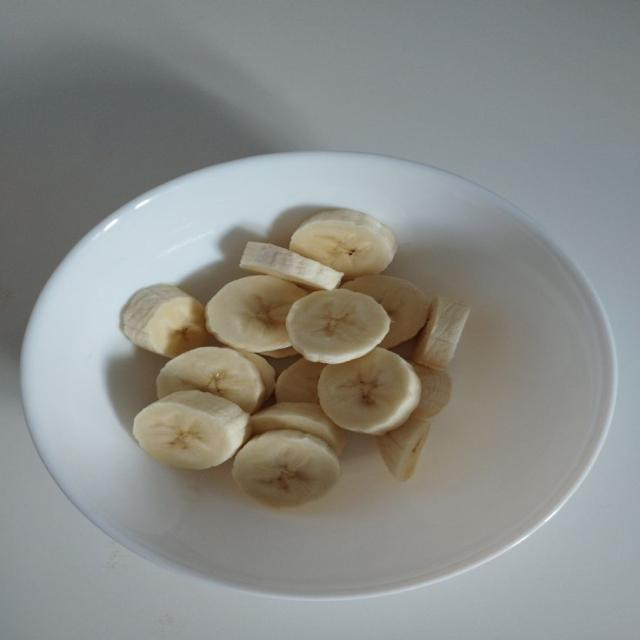banana slice: (134, 391, 250, 469), (319, 348, 420, 434), (233, 430, 339, 507), (157, 347, 274, 413), (287, 289, 390, 363), (206, 276, 306, 352), (290, 209, 397, 279), (122, 284, 208, 357), (342, 275, 428, 347), (251, 403, 345, 455), (240, 242, 343, 289), (413, 297, 469, 370), (377, 416, 429, 480), (275, 358, 326, 403), (413, 363, 452, 419), (238, 350, 275, 400), (260, 347, 298, 358)
